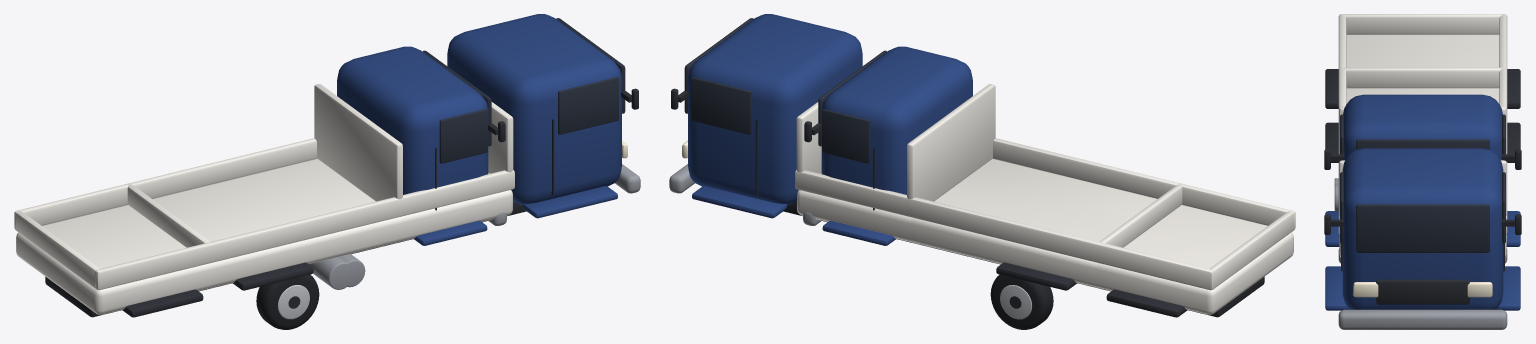
The model's file is vehicles.glb.
The picture shows the model from 3 angles, left to right: view 1: azimuth 30°, elevation 25°; view 2: azimuth 150°, elevation 25°; view 3: azimuth 270°, elevation 25°; orthographic projection.
Parts seen in each view (by area): view 1: truck_body, van_body, wheel; view 2: truck_body, van_body, wheel; view 3: truck_body, van_body.
Boxes of the visible parts, x1,y1,x2,y2 form: truck_body: (14, 14, 640, 317); van_body: (127, 46, 506, 290); wheel: (256, 274, 319, 329); truck_body: (669, 14, 1295, 317); van_body: (803, 46, 1182, 290); wheel: (990, 274, 1053, 329); truck_body: (1324, 14, 1521, 329); van_body: (1324, 67, 1521, 263).
Size of the model in its own units: 4.69 by 1.81 by 1.48.
